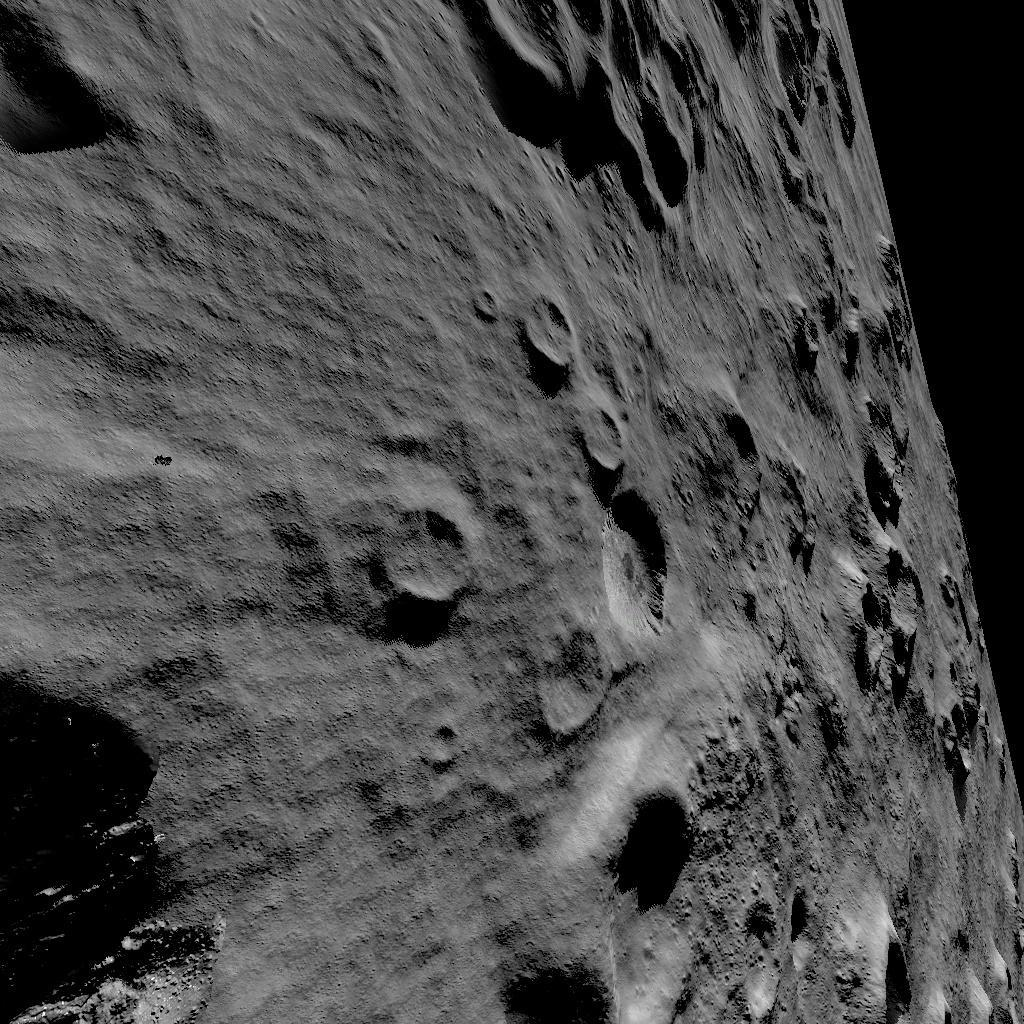Crater: (0, 656, 227, 1024), (437, 0, 703, 211), (515, 768, 717, 1024), (763, 236, 917, 529), (517, 494, 700, 729), (0, 0, 186, 177), (723, 0, 868, 163), (847, 902, 1024, 1024), (833, 540, 936, 722), (371, 488, 483, 624), (737, 884, 812, 1024), (515, 286, 589, 380), (573, 400, 650, 482)
Plan surface: (203, 0, 413, 452), (0, 464, 359, 642), (250, 780, 500, 1024)
